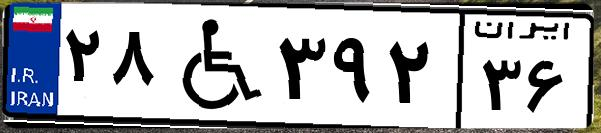2: (385, 28, 445, 110), (57, 26, 110, 100)
3: (270, 28, 330, 110), (475, 38, 525, 113)
6: (525, 38, 570, 115)
8: (110, 28, 158, 98)
9: (330, 28, 385, 110)
ژ (معلولین و جانبازان): (158, 12, 270, 120)
